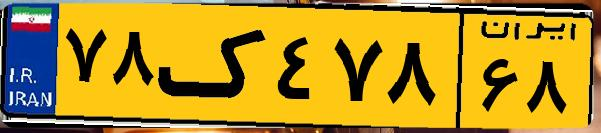4: (270, 28, 330, 110)
6: (475, 38, 525, 113)
7: (330, 28, 385, 110), (57, 26, 110, 100)
8: (385, 28, 445, 110), (525, 38, 570, 115), (110, 28, 158, 98)
ک: (158, 12, 270, 120)
